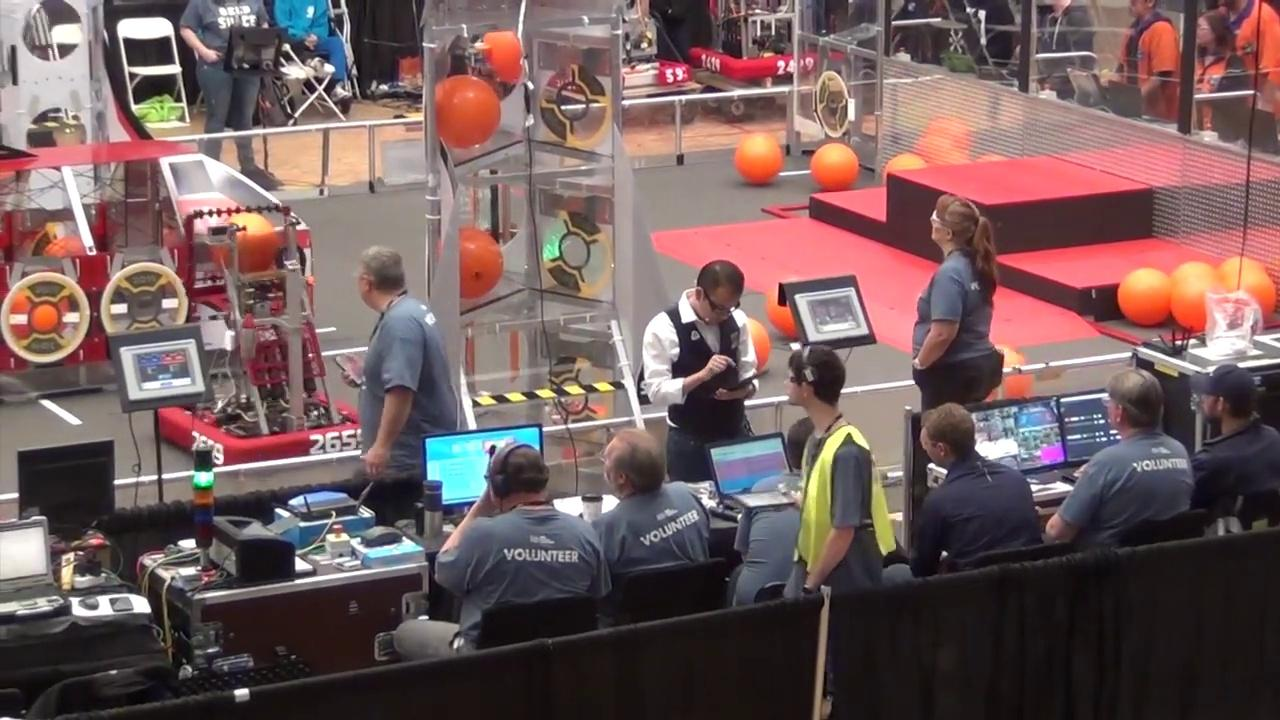robot: (152, 212, 363, 463)
